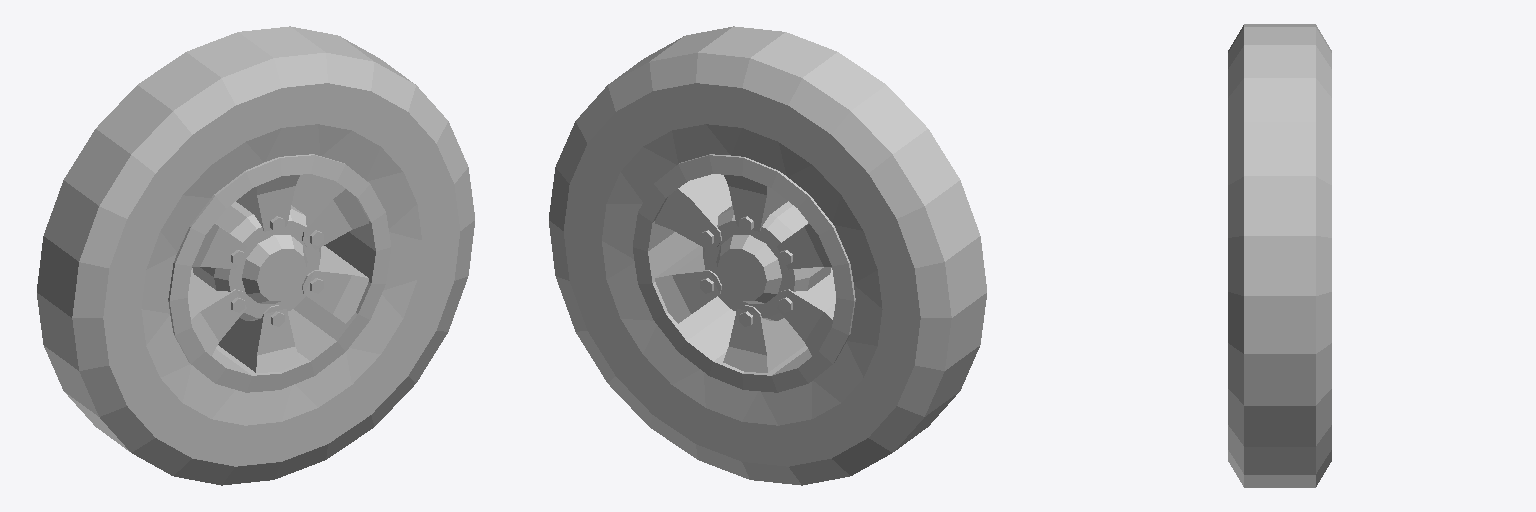
Rendered from obj_interactive_fant_wheel_large_9.obj.
3 views of the same model, side by side, from view 1: azimuth 30°, elevation 25°; view 2: azimuth 150°, elevation 25°; view 3: azimuth 270°, elevation 25° (orthographic).
Parts seen in each view (by area): view 1: obj_interactive_fant_wheel_large_9_Mesh; view 2: obj_interactive_fant_wheel_large_9_Mesh; view 3: obj_interactive_fant_wheel_large_9_Mesh.
Boxes of the visible parts, x1,y1,x2,y2 form: obj_interactive_fant_wheel_large_9_Mesh: [37, 26, 474, 485]; obj_interactive_fant_wheel_large_9_Mesh: [549, 26, 986, 485]; obj_interactive_fant_wheel_large_9_Mesh: [1228, 24, 1331, 487].
Bounding box in the file's own units: 9 × 9 × 2.